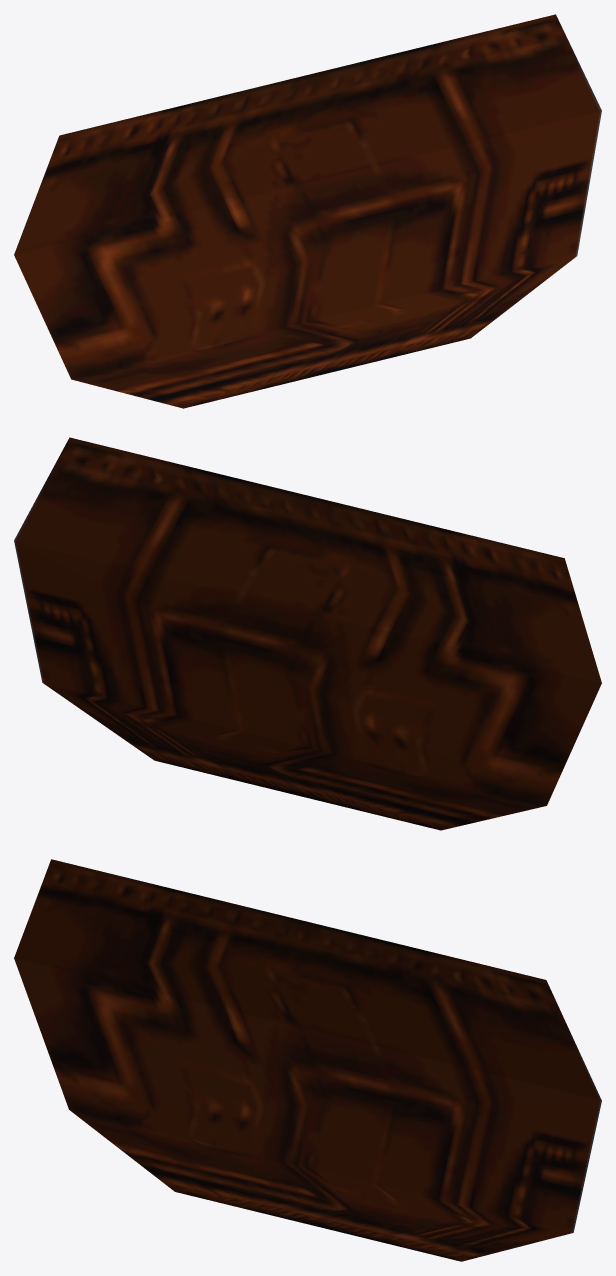
The model's file is Schiff_Laderaum_1276.glb.
3 renders of one model, top to bottom at view 1: azimuth 30°, elevation 25°; view 2: azimuth 150°, elevation 25°; view 3: azimuth 330°, elevation 25°, orthographic.
Visible parts, largest first — view 1: pPlaneShape52; view 2: pPlaneShape52; view 3: pPlaneShape52.
Part boxes in pixels (x1,y1,x2,y2): pPlaneShape52: [14, 14, 601, 408]; pPlaneShape52: [14, 437, 601, 830]; pPlaneShape52: [14, 859, 601, 1261].
Bounding box in the file's own units: 2.37 × 1.17 × 0.0336.
1 material, 1 textured.
